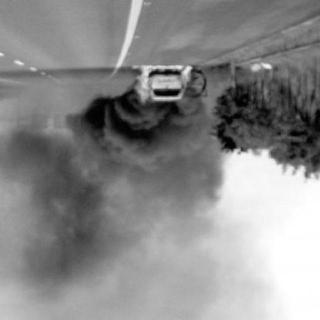Smoke: (3, 103, 216, 315)
